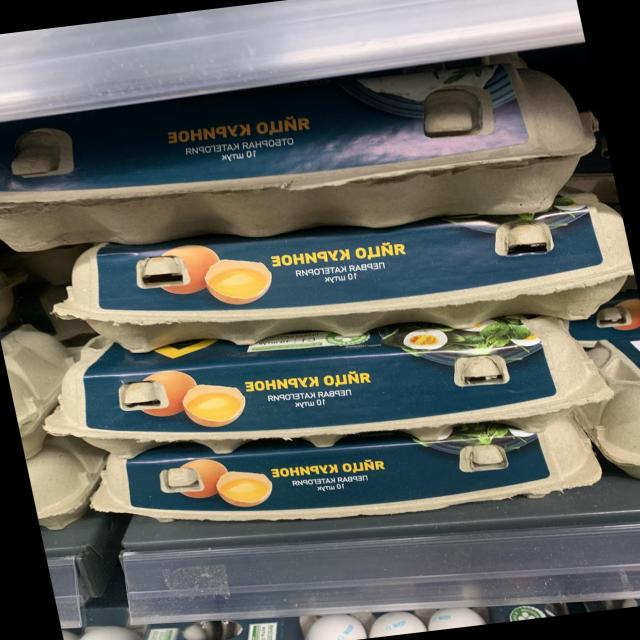organic waste: (0, 43, 613, 274), (45, 184, 640, 380), (36, 290, 617, 482), (86, 398, 606, 544)
